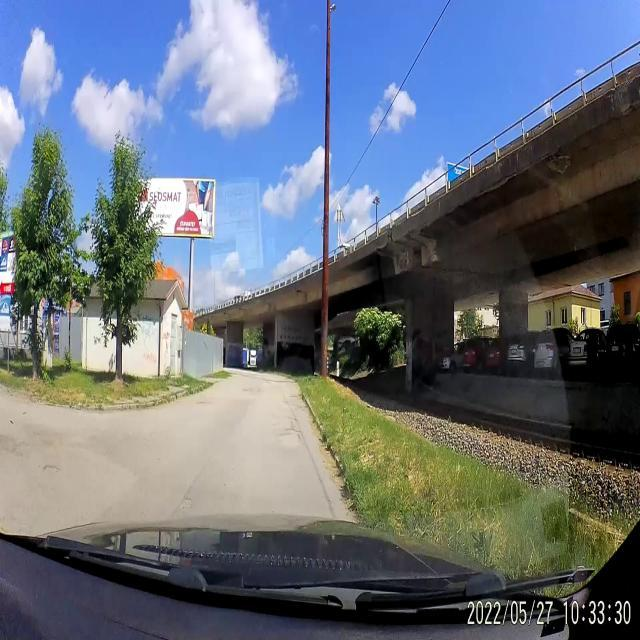Pothole: (40, 462, 60, 478), (278, 429, 302, 442), (180, 494, 194, 514), (288, 416, 299, 422), (194, 400, 206, 404)
